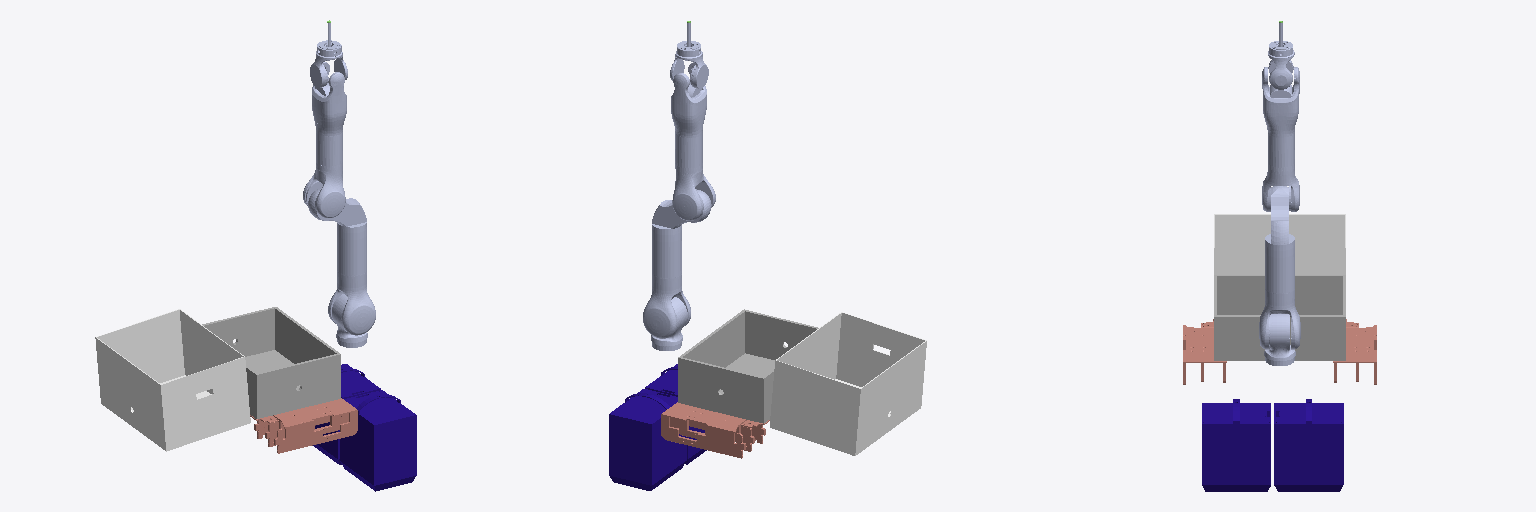
URDF robot description (E1-PRO_EVT2.0_V9_260714):
<?xml version="1.0" encoding="utf-8"?>
<!-- This URDF was automatically created by SolidWorks to URDF Exporter! Originally created by Stephen Brawner (brawner@gmail.com) 
     Commit Version: 1.6.0-4-g7f85cfe  Build Version: 1.6.7995.38578
     For more information, please see http://wiki.ros.org/sw_urdf_exporter -->
<robot
  name="E1-PRO_EVT2.0_V9_260714">
  <link
    name="base_link">
    <inertial>
      <origin
        xyz="-0.078128 -0.030482 0.38808"
        rpy="0 0 0" />
      <mass
        value="32.049" />
      <inertia
        ixx="1.1271"
        ixy="0.0019051"
        ixz="-0.001577"
        iyy="0.63017"
        iyz="0.00040475"
        izz="0.73273" />
    </inertial>
    <visual>
      <origin
        xyz="0 0 0"
        rpy="0 0 0" />
      <geometry>
        <mesh
          filename="package://E1-PRO_EVT2.0_V9_260714/meshes/base_link.STL" />
      </geometry>
      <material
        name="">
        <color
          rgba="0.48627 0.6549 0.55686 1" />
      </material>
    </visual>
    <collision>
      <origin
        xyz="0 0 0"
        rpy="0 0 0" />
      <geometry>
        <mesh
          filename="package://E1-PRO_EVT2.0_V9_260714/meshes/base_link.STL" />
      </geometry>
    </collision>
  </link>
  <link
    name="paltform_link">
    <inertial>
      <origin
        xyz="0.20827 -0.031009 0.27747"
        rpy="0 0 0" />
      <mass
        value="3.8818" />
      <inertia
        ixx="0.044311"
        ixy="-3.0252E-06"
        ixz="0.00025311"
        iyy="0.025099"
        iyz="-1.8932E-07"
        izz="0.066624" />
    </inertial>
    <visual>
      <origin
        xyz="0 0 0"
        rpy="0 0 0" />
      <geometry>
        <mesh
          filename="package://E1-PRO_EVT2.0_V9_260714/meshes/paltform_link.STL" />
      </geometry>
      <material
        name="">
        <color
          rgba="0.81961 0.56863 0.52549 1" />
      </material>
    </visual>
    <collision>
      <origin
        xyz="0 0 0"
        rpy="0 0 0" />
      <geometry>
        <mesh
          filename="package://E1-PRO_EVT2.0_V9_260714/meshes/paltform_link.STL" />
      </geometry>
    </collision>
  </link>
  <joint
    name="platform_joint"
    type="prismatic">
    <origin
      xyz="0 0 0"
      rpy="0 0 0" />
    <parent
      link="base_link" />
    <child
      link="paltform_link" />
    <axis
      xyz="0 0 1" />
    <limit
      lower="-0.1"
      upper="0.5"
      effort="0"
      velocity="0" />
  </joint>
  <link
    name="arm_base_link">
    <inertial>
      <origin
        xyz="-2.4233E-10 8.9488E-05 0.034349"
        rpy="0 0 0" />
      <mass
        value="0.59585" />
      <inertia
        ixx="0.00065407"
        ixy="2.6305E-11"
        ixz="-4.8472E-14"
        iyy="0.00065679"
        iyz="1.7428E-06"
        izz="0.00065081" />
    </inertial>
    <visual>
      <origin
        xyz="0 0 0"
        rpy="0 0 0" />
      <geometry>
        <mesh
          filename="package://E1-PRO_EVT2.0_V9_260714/meshes/arm_base_link.STL" />
      </geometry>
      <material
        name="">
        <color
          rgba="0.79216 0.81961 0.93333 1" />
      </material>
    </visual>
    <collision>
      <origin
        xyz="0 0 0"
        rpy="0 0 0" />
      <geometry>
        <mesh
          filename="package://E1-PRO_EVT2.0_V9_260714/meshes/arm_base_link.STL" />
      </geometry>
    </collision>
  </link>
  <joint
    name="arm_base_joint"
    type="fixed">
    <origin
      xyz="0.51352 -0.031 0.31"
      rpy="0 0 0" />
    <parent
      link="paltform_link" />
    <child
      link="arm_base_link" />
    <axis
      xyz="0 0 0" />
  </joint>
  <link
    name="Link1_L">
    <inertial>
      <origin
        xyz="-1.8545E-06 0.0016783 0.15066"
        rpy="0 0 0" />
      <mass
        value="0.81851" />
      <inertia
        ixx="0.0017226"
        ixy="1.4268E-08"
        ixz="-1.4275E-08"
        iyy="0.0020384"
        iyz="-3.2748E-05"
        izz="0.00088868" />
    </inertial>
    <visual>
      <origin
        xyz="0 0 0"
        rpy="0 0 0" />
      <geometry>
        <mesh
          filename="package://E1-PRO_EVT2.0_V9_260714/meshes/Link1_L.STL" />
      </geometry>
      <material
        name="">
        <color
          rgba="0.79216 0.81961 0.93333 1" />
      </material>
    </visual>
    <collision>
      <origin
        xyz="0 0 0"
        rpy="0 0 0" />
      <geometry>
        <mesh
          filename="package://E1-PRO_EVT2.0_V9_260714/meshes/Link1_L.STL" />
      </geometry>
    </collision>
  </link>
  <joint
    name="Joint1_J"
    type="revolute">
    <origin
      xyz="0 0 0"
      rpy="0 0 0" />
    <parent
      link="arm_base_link" />
    <child
      link="Link1_L" />
    <axis
      xyz="0 0 1" />
    <limit
      lower="-3.1067"
      upper="3.1067"
      effort="0"
      velocity="0" />
  </joint>
  <link
    name="Link2_L">
    <inertial>
      <origin
        xyz="-1.4456E-07 -0.0015137 0.047716"
        rpy="0 0 0" />
      <mass
        value="1.1465" />
      <inertia
        ixx="0.0054128"
        ixy="8.1654E-08"
        ixz="-2.3374E-08"
        iyy="0.0045323"
        iyz="-8.2729E-05"
        izz="0.002352" />
    </inertial>
    <visual>
      <origin
        xyz="0 0 0"
        rpy="0 0 0" />
      <geometry>
        <mesh
          filename="package://E1-PRO_EVT2.0_V9_260714/meshes/Link2_L.STL" />
      </geometry>
      <material
        name="">
        <color
          rgba="0.79216 0.81961 0.93333 1" />
      </material>
    </visual>
    <collision>
      <origin
        xyz="0 0 0"
        rpy="0 0 0" />
      <geometry>
        <mesh
          filename="package://E1-PRO_EVT2.0_V9_260714/meshes/Link2_L.STL" />
      </geometry>
    </collision>
  </link>
  <joint
    name="Joint2_J"
    type="revolute">
    <origin
      xyz="0 0 0.1745"
      rpy="0 0 0" />
    <parent
      link="Link1_L" />
    <child
      link="Link2_L" />
    <axis
      xyz="0 1 0" />
    <limit
      lower="-2.0944"
      upper="2.0944"
      effort="0"
      velocity="0" />
  </joint>
  <link
    name="Link3_L">
    <inertial>
      <origin
        xyz="-0.023535 2.5028E-07 0.1338"
        rpy="0 0 0" />
      <mass
        value="1.859" />
      <inertia
        ixx="0.012962"
        ixy="-4.4589E-08"
        ixz="0.0044136"
        iyy="0.016023"
        iyz="3.9752E-08"
        izz="0.0045949" />
    </inertial>
    <visual>
      <origin
        xyz="0 0 0"
        rpy="0 0 0" />
      <geometry>
        <mesh
          filename="package://E1-PRO_EVT2.0_V9_260714/meshes/Link3_L.STL" />
      </geometry>
      <material
        name="">
        <color
          rgba="0.79216 0.81961 0.93333 1" />
      </material>
    </visual>
    <collision>
      <origin
        xyz="0 0 0"
        rpy="0 0 0" />
      <geometry>
        <mesh
          filename="package://E1-PRO_EVT2.0_V9_260714/meshes/Link3_L.STL" />
      </geometry>
    </collision>
  </link>
  <joint
    name="Joint3_J"
    type="revolute">
    <origin
      xyz="0 0 0.1480"
      rpy="0 0 0" />
    <parent
      link="Link2_L" />
    <child
      link="Link3_L" />
    <axis
      xyz="0 0 1" />
    <limit
      lower="-3.1067"
      upper="3.1067"
      effort="0"
      velocity="0" />
  </joint>
  <link
    name="Link4_L">
    <inertial>
      <origin
        xyz="0.0077613 0.0048207 0.037399"
        rpy="0 0 0" />
      <mass
        value="0.80083" />
      <inertia
        ixx="0.0027058"
        ixy="9.7745E-06"
        ixz="-0.00028207"
        iyy="0.0022185"
        iyz="4.7057E-05"
        izz="0.0014374" />
    </inertial>
    <visual>
      <origin
        xyz="0 0 0"
        rpy="0 0 0" />
      <geometry>
        <mesh
          filename="package://E1-PRO_EVT2.0_V9_260714/meshes/Link4_L.STL" />
      </geometry>
      <material
        name="">
        <color
          rgba="0.79216 0.81961 0.93333 1" />
      </material>
    </visual>
    <collision>
      <origin
        xyz="0 0 0"
        rpy="0 0 0" />
      <geometry>
        <mesh
          filename="package://E1-PRO_EVT2.0_V9_260714/meshes/Link4_L.STL" />
      </geometry>
    </collision>
  </link>
  <joint
    name="Joint4_J"
    type="revolute">
    <origin
      xyz="-0.096769 0 0.26"
      rpy="0 0 0" />
    <parent
      link="Link3_L" />
    <child
      link="Link4_L" />
    <axis
      xyz="0 1 0" />
    <limit
      lower="-3.1416"
      upper="0.8727"
      effort="0"
      velocity="0" />
  </joint>
  <link
    name="Link5_L">
    <inertial>
      <origin
        xyz="-6.78E-07 3.2217E-05 0.13822"
        rpy="0 0 0" />
      <mass
        value="1.6879" />
      <inertia
        ixx="0.011022"
        ixy="5.6855E-08"
        ixz="-3.3182E-07"
        iyy="0.010501"
        iyz="-8.1575E-06"
        izz="0.0020745" />
    </inertial>
    <visual>
      <origin
        xyz="0 0 0"
        rpy="0 0 0" />
      <geometry>
        <mesh
          filename="package://E1-PRO_EVT2.0_V9_260714/meshes/Link5_L.STL" />
      </geometry>
      <material
        name="">
        <color
          rgba="0.79216 0.81961 0.93333 1" />
      </material>
    </visual>
    <collision>
      <origin
        xyz="0 0 0"
        rpy="0 0 0" />
      <geometry>
        <mesh
          filename="package://E1-PRO_EVT2.0_V9_260714/meshes/Link5_L.STL" />
      </geometry>
    </collision>
  </link>
  <joint
    name="Joint5_J"
    type="revolute">
    <origin
      xyz="0.018 0.00325 0.121"
      rpy="0 0 0" />
    <parent
      link="Link4_L" />
    <child
      link="Link5_L" />
    <axis
      xyz="0 0 1" />
    <limit
      lower="-3.1067"
      upper="3.1067"
      effort="0"
      velocity="0" />
  </joint>
  <link
    name="Link6_L">
    <inertial>
      <origin
        xyz="0.004049 3.3359E-08 -1.2591E-07"
        rpy="0 0 0" />
      <mass
        value="0.28617" />
      <inertia
        ixx="0.00021745"
        ixy="3.4379E-11"
        ixz="6.5972E-10"
        iyy="0.00018866"
        iyz="3.9715E-10"
        izz="0.00020199" />
    </inertial>
    <visual>
      <origin
        xyz="0 0 0"
        rpy="0 0 0" />
      <geometry>
        <mesh
          filename="package://E1-PRO_EVT2.0_V9_260714/meshes/Link6_L.STL" />
      </geometry>
      <material
        name="">
        <color
          rgba="0.79216 0.81961 0.93333 1" />
      </material>
    </visual>
    <collision>
      <origin
        xyz="0 0 0"
        rpy="0 0 0" />
      <geometry>
        <mesh
          filename="package://E1-PRO_EVT2.0_V9_260714/meshes/Link6_L.STL" />
      </geometry>
    </collision>
  </link>
  <joint
    name="Joint6_J"
    type="revolute">
    <origin
      xyz="0 0 0.221"
      rpy="0 0 0" />
    <parent
      link="Link5_L" />
    <child
      link="Link6_L" />
    <axis
      xyz="0 1 0" />
    <limit
      lower="-1.0472"
      upper="1.0472"
      effort="0"
      velocity="0" />
  </joint>
  <link
    name="Link7_L">
    <inertial>
      <origin
        xyz="-0.0031171 7.5484E-05 0.040026"
        rpy="0 0 0" />
      <mass
        value="0.33604" />
      <inertia
        ixx="0.00068247"
        ixy="-6.7262E-08"
        ixz="-4.078E-05"
        iyy="0.00089842"
        iyz="-1.0527E-06"
        izz="0.0004406" />
    </inertial>
    <visual>
      <origin
        xyz="0 0 0"
        rpy="0 0 0" />
      <geometry>
        <mesh
          filename="package://E1-PRO_EVT2.0_V9_260714/meshes/Link7_L.STL" />
      </geometry>
      <material
        name="">
        <color
          rgba="0.79216 0.81961 0.93333 1" />
      </material>
    </visual>
    <collision>
      <origin
        xyz="0 0 0"
        rpy="0 0 0" />
      <geometry>
        <mesh
          filename="package://E1-PRO_EVT2.0_V9_260714/meshes/Link7_L.STL" />
      </geometry>
    </collision>
  </link>
  <joint
    name="Joint7_J"
    type="revolute">
    <origin
      xyz="0 0 0.076"
      rpy="0 0 0" />
    <parent
      link="Link6_L" />
    <child
      link="Link7_L" />
    <axis
      xyz="1 0 0" />
    <limit
      lower="-1.5708"
      upper="1.5708"
      effort="0"
      velocity="0" />
  </joint>
  <link
    name="zhijian_link">
    <inertial>
      <origin
        xyz="-1.1102E-16 -2.7756E-17 0.00064558"
        rpy="0 0 0" />
      <mass
        value="0.00036655" />
      <inertia
        ixx="3.9905E-09"
        ixy="1.0681E-24"
        ixz="2.9337E-25"
        iyy="3.9905E-09"
        iyz="-6.4703E-25"
        izz="6.4361E-09" />
    </inertial>
    <visual>
      <origin
        xyz="0 0 0"
        rpy="0 0 0" />
      <geometry>
        <mesh
          filename="package://E1-PRO_EVT2.0_V9_260714/meshes/zhijian_link.STL" />
      </geometry>
      <material
        name="">
        <color
          rgba="0.61569 0.94118 0.49412 1" />
      </material>
    </visual>
    <collision>
      <origin
        xyz="0 0 0"
        rpy="0 0 0" />
      <geometry>
        <mesh
          filename="package://E1-PRO_EVT2.0_V9_260714/meshes/zhijian_link.STL" />
      </geometry>
    </collision>
  </link>
  <joint
    name="zhijian_joint"
    type="fixed">
    <origin
      xyz="0 0 0.17167"
      rpy="0 0 0" />
    <parent
      link="Link7_L" />
    <child
      link="zhijian_link" />
    <axis
      xyz="0 0 0" />
  </joint>
  <link
    name="box01_link">
    <inertial>
      <origin
        xyz="0.066347 2.1039E-14 0.050967"
        rpy="0 0 0" />
      <mass
        value="24.317" />
      <inertia
        ixx="0.532"
        ixy="-1.6722E-17"
        ixz="2.0561E-17"
        iyy="0.35276"
        iyz="-1.8561E-16"
        izz="0.77081" />
    </inertial>
    <visual>
      <origin
        xyz="0 0 0"
        rpy="0 0 0" />
      <geometry>
        <mesh
          filename="package://E1-PRO_EVT2.0_V9_260714/meshes/box01_link.STL" />
      </geometry>
      <material
        name="">
        <color
          rgba="0.75294 0.75294 0.75294 1" />
      </material>
    </visual>
    <collision>
      <origin
        xyz="0 0 0"
        rpy="0 0 0" />
      <geometry>
        <mesh
          filename="package://E1-PRO_EVT2.0_V9_260714/meshes/box01_link.STL" />
      </geometry>
    </collision>
  </link>
  <joint
    name="box01_joint"
    type="prismatic">
    <origin
      xyz="0.14402 -0.031 0.31"
      rpy="0 0 0" />
    <parent
      link="paltform_link" />
    <child
      link="box01_link" />
    <axis
      xyz="0 1 0" />
    <limit
      lower="-0.7"
      upper="0.7"
      effort="0"
      velocity="0" />
  </joint>
  <link
    name="left_dianchi_link">
    <inertial>
      <origin
        xyz="1.1315E-09 0.00062273 -0.14093"
        rpy="0 0 0" />
      <mass
        value="55.685" />
      <inertia
        ixx="0.4411"
        ixy="1.3E-11"
        ixz="2.359E-10"
        iyy="0.34283"
        iyz="0.0020666"
        izz="0.30662" />
    </inertial>
    <visual>
      <origin
        xyz="0 0 0"
        rpy="0 0 0" />
      <geometry>
        <mesh
          filename="package://E1-PRO_EVT2.0_V9_260714/meshes/left_dianchi_link.STL" />
      </geometry>
      <material
        name="">
        <color
          rgba="0.2 0.10196 0.62353 1" />
      </material>
    </visual>
    <collision>
      <origin
        xyz="0 0 0"
        rpy="0 0 0" />
      <geometry>
        <mesh
          filename="package://E1-PRO_EVT2.0_V9_260714/meshes/left_dianchi_link.STL" />
      </geometry>
    </collision>
  </link>
  <joint
    name="left_dainchi_joint"
    type="prismatic">
    <origin
      xyz="0.52987 0.057 0.24116"
      rpy="0 0 0" />
    <parent
      link="base_link" />
    <child
      link="left_dianchi_link" />
    <axis
      xyz="0 0 1" />
    <limit
      lower="0"
      upper="0.5"
      effort="0"
      velocity="0" />
  </joint>
  <link
    name="right_dianchi_link">
    <inertial>
      <origin
        xyz="1.2007E-09 -0.22062 -0.14093"
        rpy="0 0 0" />
      <mass
        value="55.685" />
      <inertia
        ixx="0.4411"
        ixy="1.3E-11"
        ixz="-2.359E-10"
        iyy="0.34283"
        iyz="-0.0020666"
        izz="0.30662" />
    </inertial>
    <visual>
      <origin
        xyz="0 0 0"
        rpy="0 0 0" />
      <geometry>
        <mesh
          filename="package://E1-PRO_EVT2.0_V9_260714/meshes/right_dianchi_link.STL" />
      </geometry>
      <material
        name="">
        <color
          rgba="0.2 0.10196 0.62353 1" />
      </material>
    </visual>
    <collision>
      <origin
        xyz="0 0 0"
        rpy="0 0 0" />
      <geometry>
        <mesh
          filename="package://E1-PRO_EVT2.0_V9_260714/meshes/right_dianchi_link.STL" />
      </geometry>
    </collision>
  </link>
  <joint
    name="right_dianchi_joint"
    type="prismatic">
    <origin
      xyz="0.52987 0.057 0.24116"
      rpy="0 0 0" />
    <parent
      link="base_link" />
    <child
      link="right_dianchi_link" />
    <axis
      xyz="0 0 1" />
    <limit
      lower="0"
      upper="0.5"
      effort="0"
      velocity="0" />
  </joint>
  <link
    name="boxs02_link">
    <inertial>
      <origin
        xyz="0 0 0"
        rpy="0 0 0" />
      <mass
        value="0" />
      <inertia
        ixx="0"
        ixy="0"
        ixz="0"
        iyy="0"
        iyz="0"
        izz="0" />
    </inertial>
    <visual>
      <origin
        xyz="0 0 0"
        rpy="0 0 0" />
      <geometry>
        <mesh
          filename="package://E1-PRO_EVT2.0_V9_260714/meshes/boxs02_link.STL" />
      </geometry>
      <material
        name="">
        <color
          rgba="1 1 1 1" />
      </material>
    </visual>
    <collision>
      <origin
        xyz="0 0 0"
        rpy="0 0 0" />
      <geometry>
        <mesh
          filename="package://E1-PRO_EVT2.0_V9_260714/meshes/boxs02_link.STL" />
      </geometry>
    </collision>
  </link>
  <joint
    name="boxs02_joint"
    type="prismatic">
    <origin
      xyz="0.034965 -0.031 0.36351"
      rpy="0 0 0" />
    <parent
      link="base_link" />
    <child
      link="boxs02_link" />
    <axis
      xyz="0.99619 0 0.087156" />
    <limit
      lower="0"
      upper="0.5"
      effort="0"
      velocity="0" />
  </joint>
</robot>

--- Facts derived from the render (not from the file) ---
3 views of the same robot in one strip: view 1: azimuth 30°, elevation 25°; view 2: azimuth 150°, elevation 25°; view 3: azimuth 270°, elevation 25° (orthographic).
Model E1-PRO_EVT2.0_V9_260714 with 15 links and 14 joints (7 revolute, 5 prismatic, 2 fixed), rooted at base_link, posed all joints at 0.
Links seen in each view (by area): view 1: boxs02_link, box01_link, right_dianchi_link, paltform_link, Link5_L, Link3_L, Link2_L, Link4_L, left_dianchi_link, Link7_L, Link1_L; view 2: boxs02_link, box01_link, left_dianchi_link, paltform_link, Link5_L, Link3_L, Link2_L, Link4_L, Link7_L, right_dianchi_link, Link1_L; view 3: box01_link, boxs02_link, left_dianchi_link, right_dianchi_link, paltform_link, Link3_L, Link5_L, Link2_L, Link1_L, Link7_L, Link4_L.
Boxes of the visible links, left/top/right/bottom form: boxs02_link: left=95, top=309, right=250, bottom=451; box01_link: left=202, top=307, right=340, bottom=418; right_dianchi_link: left=340, top=390, right=416, bottom=491; paltform_link: left=250, top=398, right=357, bottom=453; Link5_L: left=312, top=62, right=346, bottom=166; Link3_L: left=308, top=188, right=366, bottom=274; Link2_L: left=328, top=271, right=375, bottom=335; Link4_L: left=303, top=162, right=345, bottom=217; left_dianchi_link: left=313, top=364, right=380, bottom=464; Link7_L: left=310, top=23, right=347, bottom=87; Link1_L: left=332, top=294, right=367, bottom=347; boxs02_link: left=770, top=312, right=926, bottom=455; box01_link: left=678, top=309, right=818, bottom=423; left_dianchi_link: left=609, top=389, right=686, bottom=490; paltform_link: left=661, top=402, right=769, bottom=458; Link5_L: left=671, top=62, right=706, bottom=167; Link3_L: left=652, top=189, right=711, bottom=277; Link2_L: left=643, top=273, right=690, bottom=338; Link4_L: left=672, top=163, right=715, bottom=220; Link7_L: left=670, top=23, right=708, bottom=88; right_dianchi_link: left=645, top=364, right=706, bottom=464; Link1_L: left=651, top=297, right=687, bottom=350; box01_link: left=1214, top=275, right=1345, bottom=360; boxs02_link: left=1214, top=214, right=1345, bottom=274; left_dianchi_link: left=1274, top=399, right=1343, bottom=491; right_dianchi_link: left=1202, top=399, right=1270, bottom=491; paltform_link: left=1183, top=319, right=1376, bottom=384; Link3_L: left=1265, top=186, right=1294, bottom=292; Link5_L: left=1262, top=67, right=1299, bottom=167; Link2_L: left=1259, top=289, right=1300, bottom=349; Link1_L: left=1264, top=314, right=1295, bottom=365; Link7_L: left=1268, top=23, right=1294, bottom=89; Link4_L: left=1262, top=162, right=1299, bottom=211.
Size in the robot's own frame: 0.8834 by 0.59 by 1.5 metres.
13 mesh visuals loaded from 15 distinct referenced files (13 binary STL); not drawn: 2 (reference not matched to a file when rendering).
